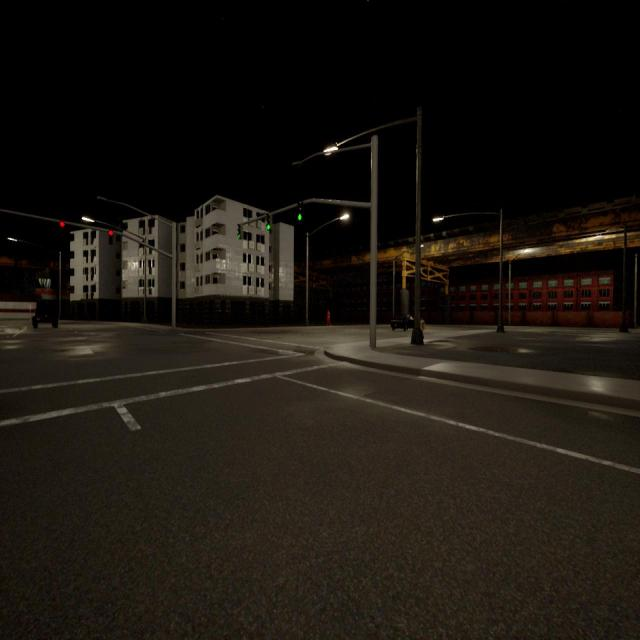Pedestrian: (326, 310, 331, 327), (420, 316, 424, 333)
Vehicle: (33, 298, 58, 328), (391, 314, 414, 330)
traffic_light: (298, 201, 304, 221), (266, 212, 272, 231), (237, 223, 243, 239), (108, 230, 113, 244), (60, 221, 64, 234)
